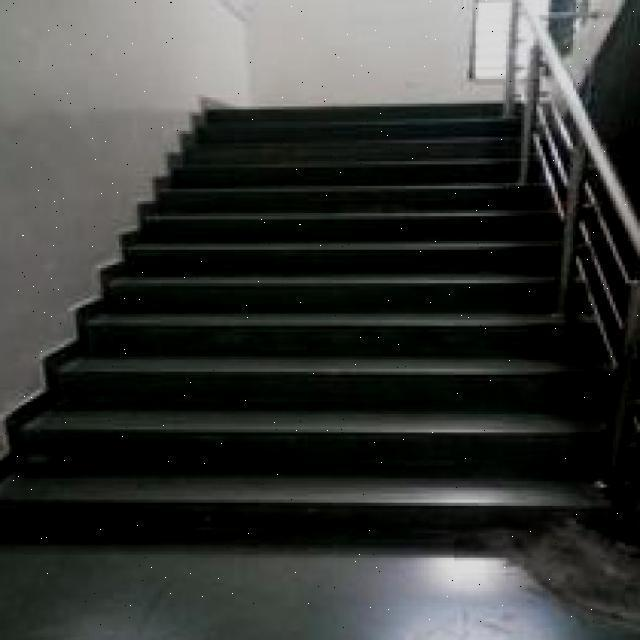stair: (0, 308, 573, 566)
